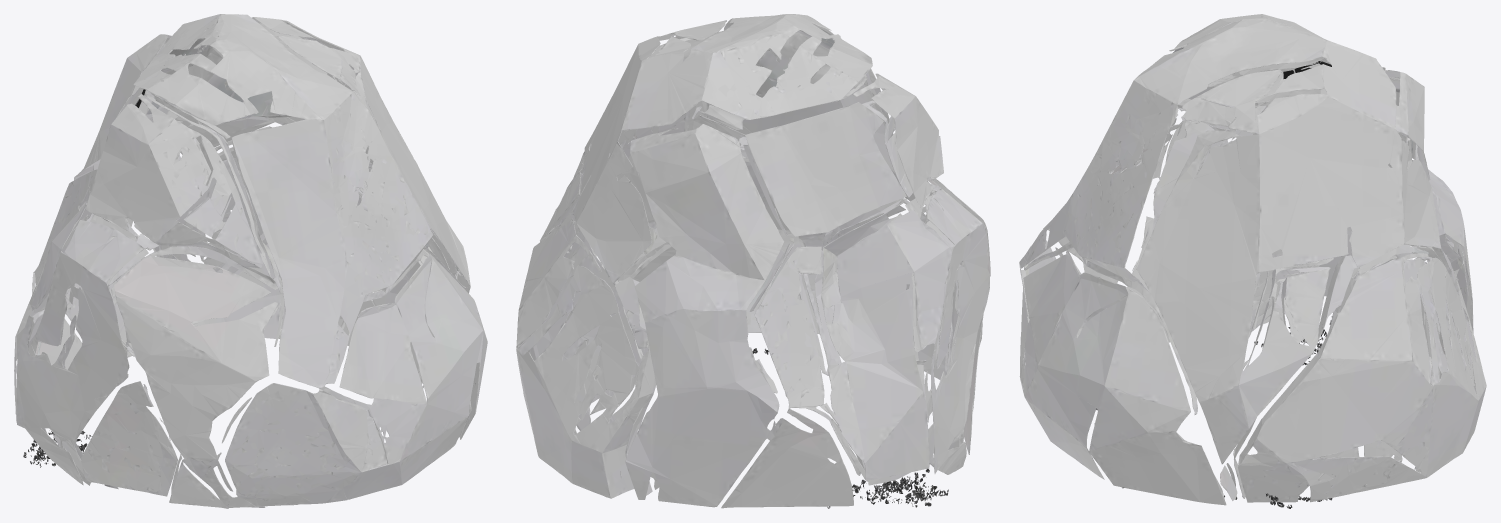
The model's file is rock.glb.
3 views of the same model, side by side, from view 1: azimuth 30°, elevation 25°; view 2: azimuth 150°, elevation 25°; view 3: azimuth 270°, elevation 25° (orthographic). The views are drawn at different scales.
Parts seen in each view (by area): view 1: geometry_0; view 2: geometry_0; view 3: geometry_0.
Boxes of the visible parts, bbox=[...] form: geometry_0: bbox=[14, 14, 487, 508]; geometry_0: bbox=[516, 14, 990, 508]; geometry_0: bbox=[1019, 14, 1486, 508].
Size of the model in its own units: 0.9984 by 0.9304 by 0.9942.
Materials: 1 (1 with a texture image).
